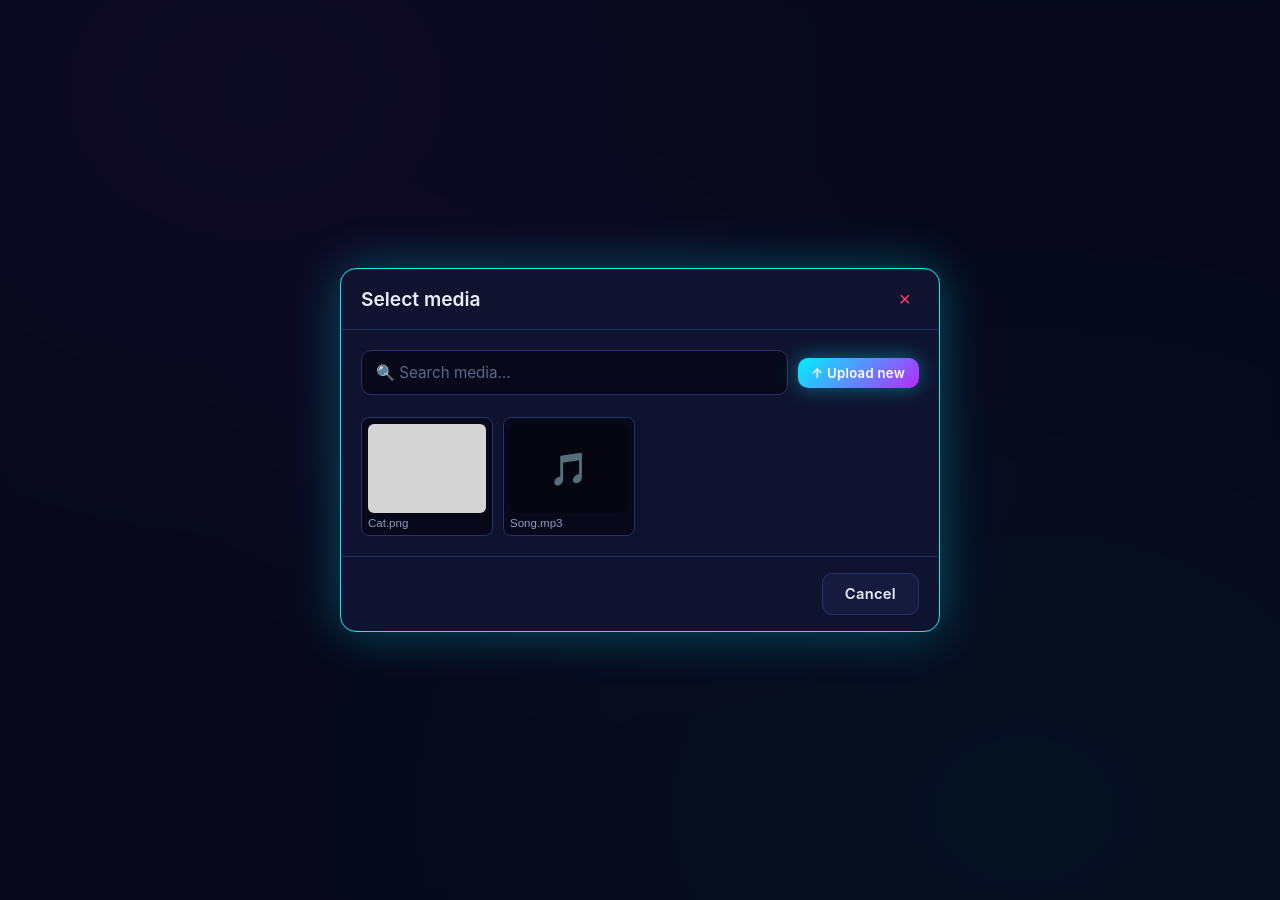
it: MediaPicker › filters by the search box
Step 1. Type "song" into the search field with placeholder "🔍 Search media…" → (574, 373), box left=361, top=350, right=788, bottom=395
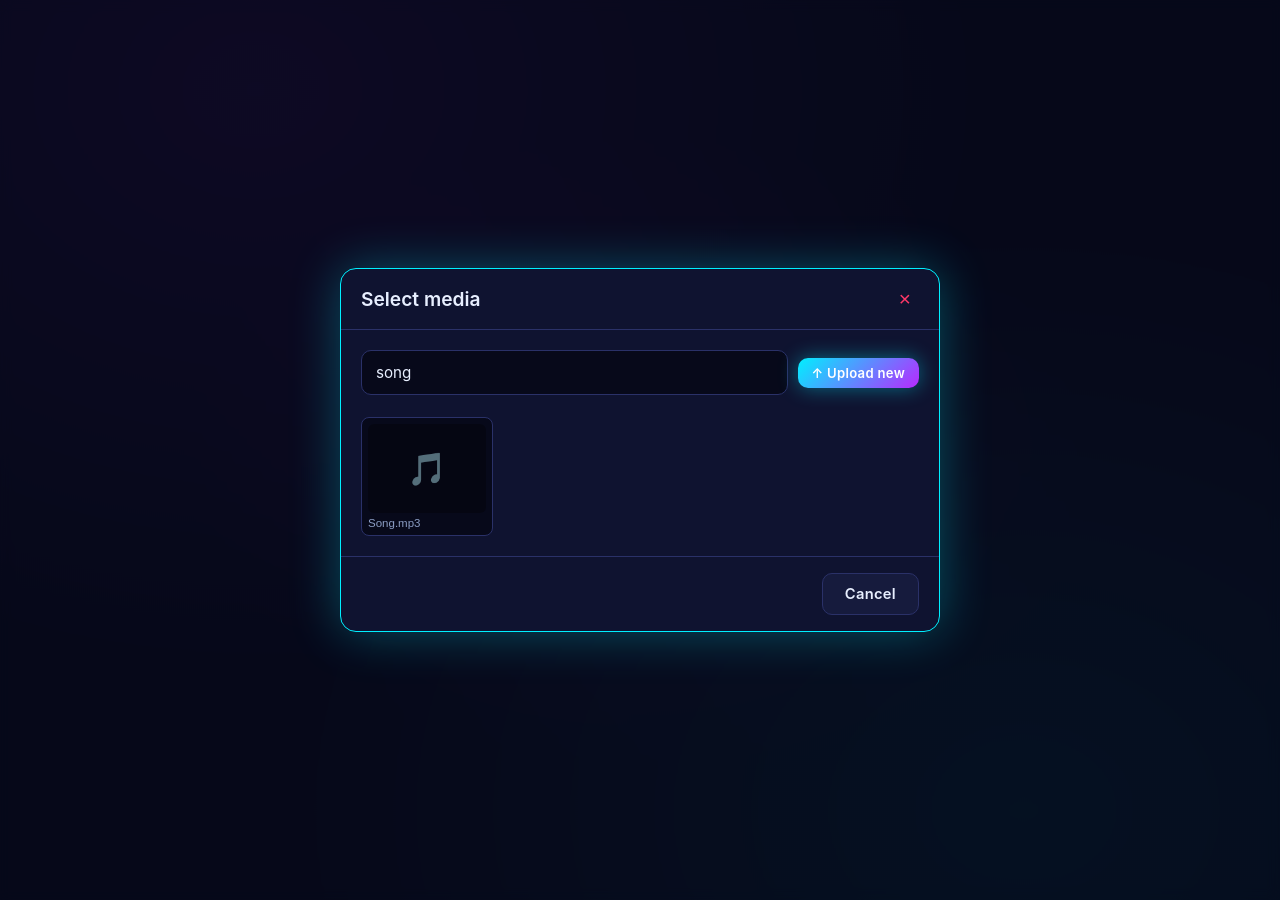
Expected: the button titled "Song.mp3" is shown, left=361, top=417, right=493, bottom=536
Now the button titled "Cat.png" is gone
